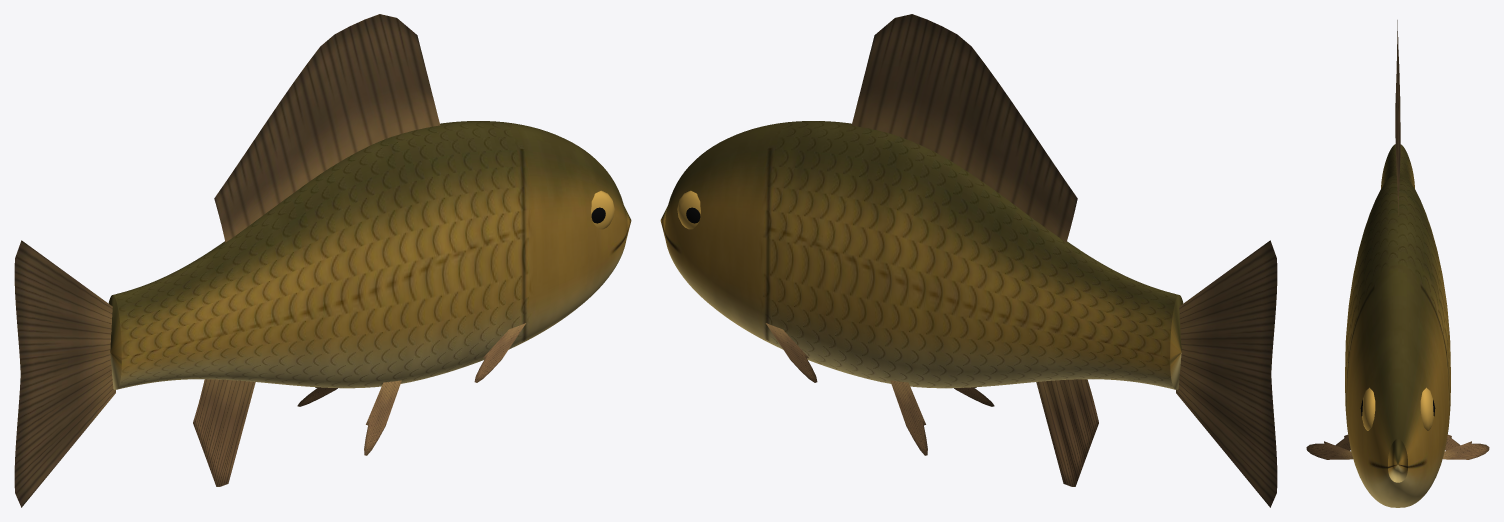
Rendered from fish_crucian.gltf.
The picture shows the model from 3 angles, left to right: view 1: azimuth 30°, elevation 25°; view 2: azimuth 150°, elevation 25°; view 3: azimuth 270°, elevation 25°; orthographic projection. The views are drawn at different scales.
Parts seen in each view (by area): view 1: fish_crucian; view 2: fish_crucian; view 3: fish_crucian.
Boxes of the visible parts, <box> form: fish_crucian: <box>14,14,631,507</box>; fish_crucian: <box>660,14,1277,507</box>; fish_crucian: <box>1306,20,1489,507</box>.
Size of the model in its own units: 0.1977 by 0.1329 by 0.0481.
Materials: 6 (4 with a texture image).
